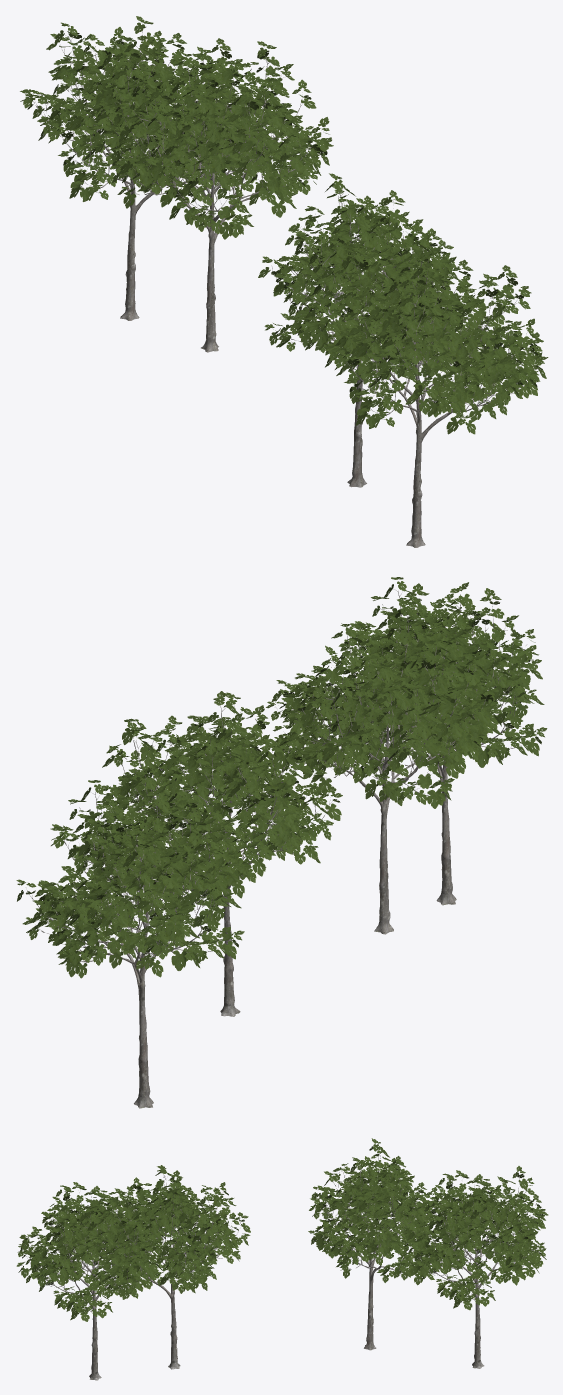
File: ArbolesPoderLegislativoLow.fbx
The picture shows the model from 3 angles, top to bottom: view 1: azimuth 30°, elevation 25°; view 2: azimuth 150°, elevation 25°; view 3: azimuth 270°, elevation 25°; orthographic projection. The views are drawn at different scales.
Visible parts, largest first — view 1: Ficus_carica_HD_Ficus_car_lf_stk_01_0; view 2: Ficus_carica_HD_Ficus_car_lf_stk_01_0; view 3: Ficus_carica_HD_Ficus_car_lf_stk_01_0.
Boxes of the visible parts, x1,y1,x2,y2 form: Ficus_carica_HD_Ficus_car_lf_stk_01_0: [20, 16, 548, 547]; Ficus_carica_HD_Ficus_car_lf_stk_01_0: [16, 577, 547, 1108]; Ficus_carica_HD_Ficus_car_lf_stk_01_0: [16, 1138, 548, 1380].
Size of the model in its own units: 346 by 491 by 1059.
